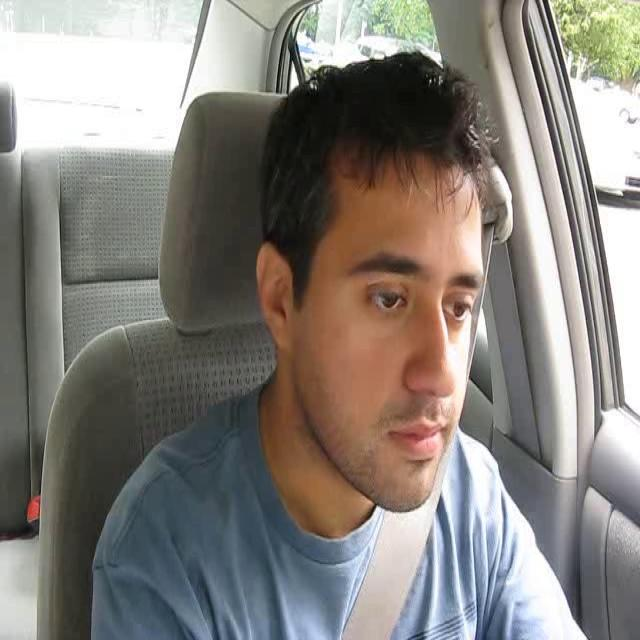close: (390, 415, 449, 463)
